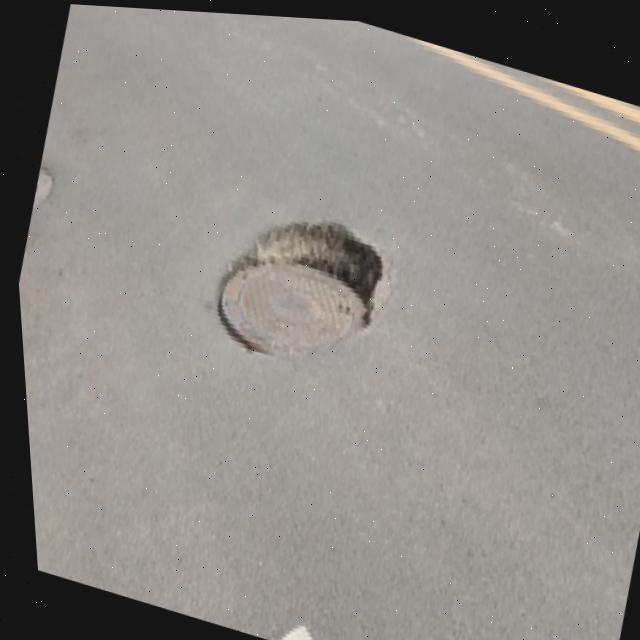manhole: (190, 171, 403, 391)
